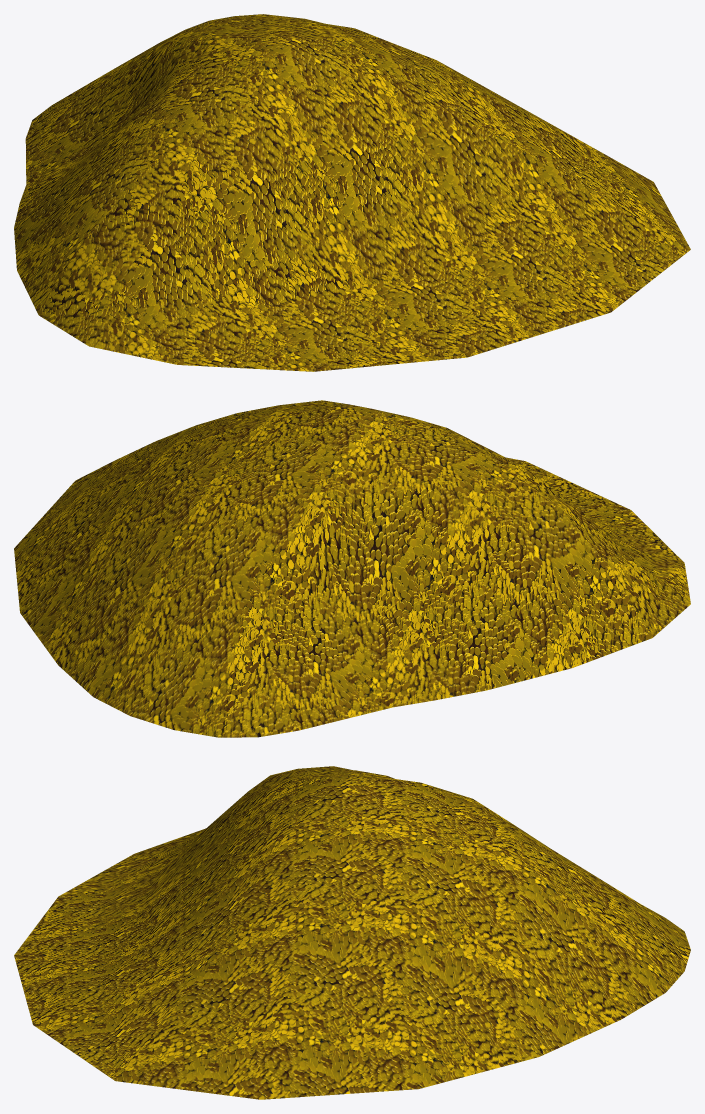
Rendered from INST_SM_GOLDPILE_LARGED.fbx.
3 views of the same model, one above another, from view 1: azimuth 30°, elevation 25°; view 2: azimuth 150°, elevation 25°; view 3: azimuth 270°, elevation 25° (orthographic). The views are drawn at different scales.
Visible parts, largest first — view 1: INST_SM_GOLDPILE_LARGED; view 2: INST_SM_GOLDPILE_LARGED; view 3: INST_SM_GOLDPILE_LARGED.
Boxes of the visible parts, box(x1,y1,x2,y2) form: INST_SM_GOLDPILE_LARGED: box(14, 14, 690, 371); INST_SM_GOLDPILE_LARGED: box(14, 400, 690, 737); INST_SM_GOLDPILE_LARGED: box(14, 766, 690, 1099).
Size of the model in its own units: 126250 by 37216 by 133750.
Materials: 1 (1 with a texture image).
